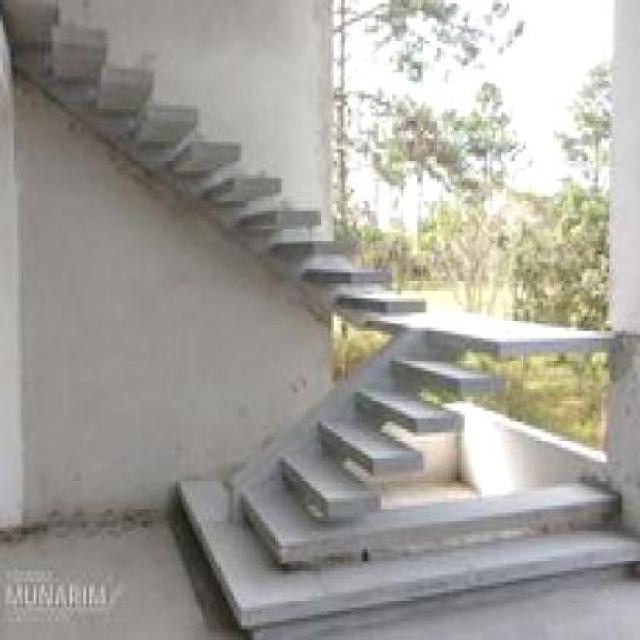stair: (142, 298, 616, 600)
